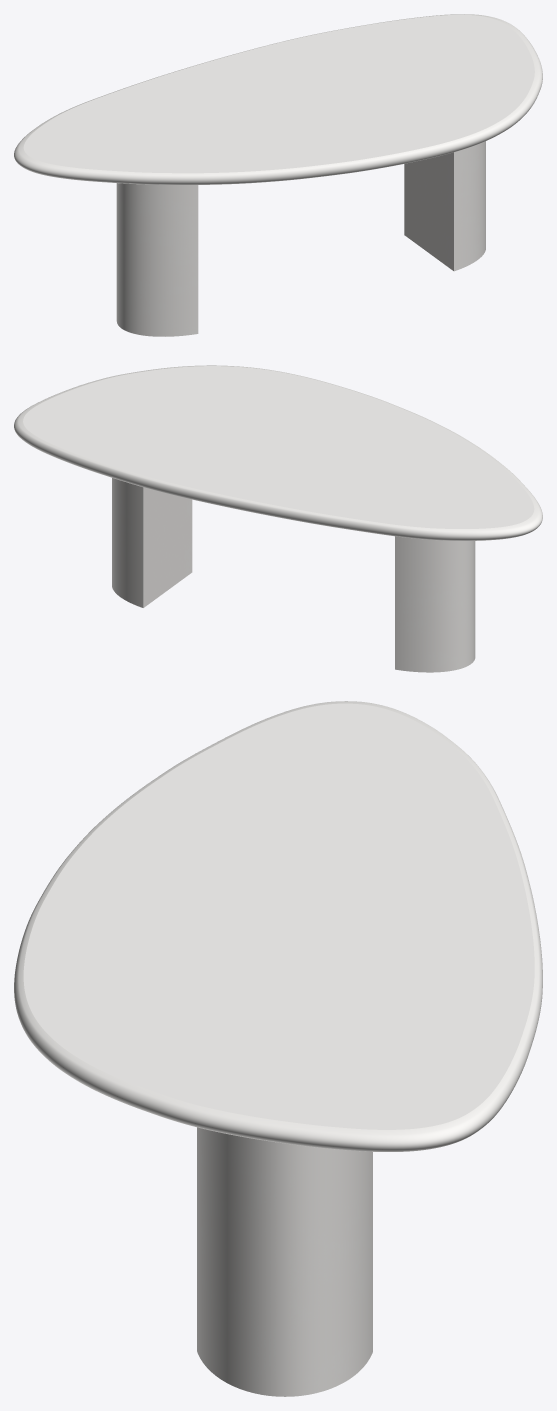
Rendered from purewhite_pebbletop_round_hillside.glb.
The picture shows the model from 3 angles, top to bottom: view 1: azimuth 30°, elevation 25°; view 2: azimuth 150°, elevation 25°; view 3: azimuth 270°, elevation 25°; orthographic projection. The views are drawn at different scales.
Parts seen in each view (by area): view 1: round_pebbletop, hillside; view 2: round_pebbletop, hillside; view 3: round_pebbletop, hillside.
Boxes of the visible parts, bbox=[...] form: round_pebbletop: bbox=[14, 14, 542, 184]; hillside: bbox=[116, 141, 485, 336]; round_pebbletop: bbox=[14, 365, 542, 540]; hillside: bbox=[112, 478, 475, 672]; round_pebbletop: bbox=[14, 701, 542, 1151]; hillside: bbox=[197, 1127, 372, 1396].
Bounding box in the file's own units: 7.5 × 2.51 × 3.8.
Materials: 1 (1 with a texture image).
